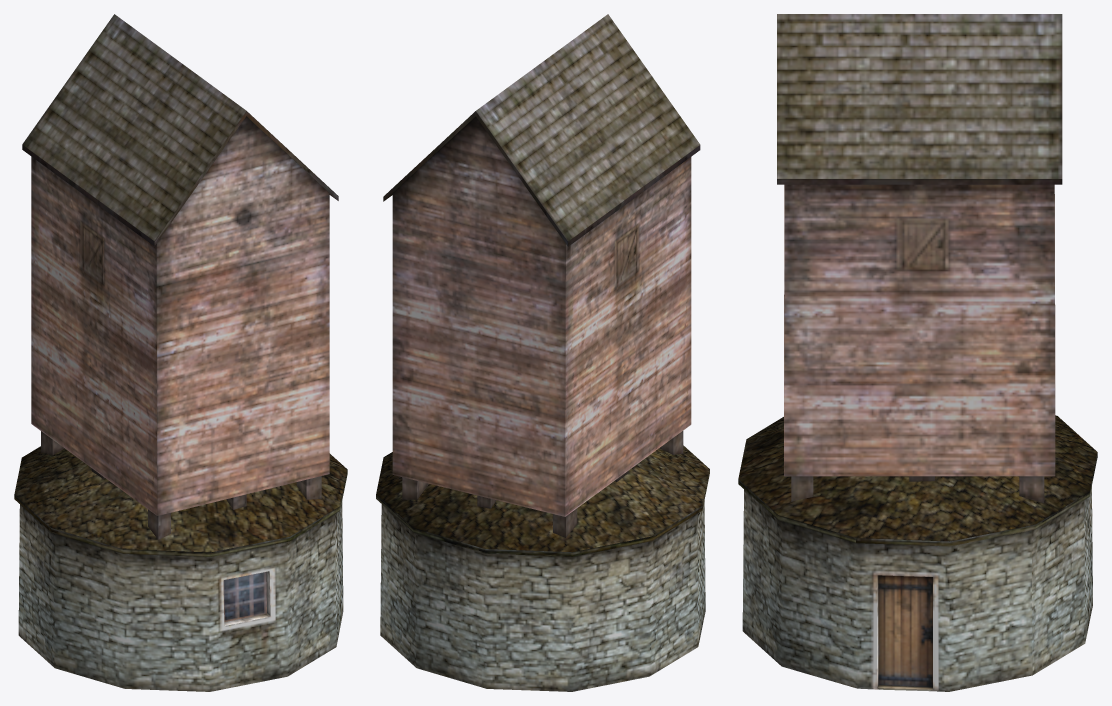
File: house.obj
3 renders of one model, left to right at view 1: azimuth 30°, elevation 25°; view 2: azimuth 150°, elevation 25°; view 3: azimuth 270°, elevation 25°, orthographic. The views are drawn at different scales.
Parts seen in each view (by area): view 1: WindMillj; view 2: WindMillj; view 3: WindMillj.
Boxes of the visible parts, x1,y1,x2,y2 form: WindMillj: (14, 14, 347, 691); WindMillj: (376, 14, 709, 691); WindMillj: (738, 14, 1097, 691).
Bounding box in the file's own units: 5.86 × 10.87 × 5.86.
1 material, 1 textured.
